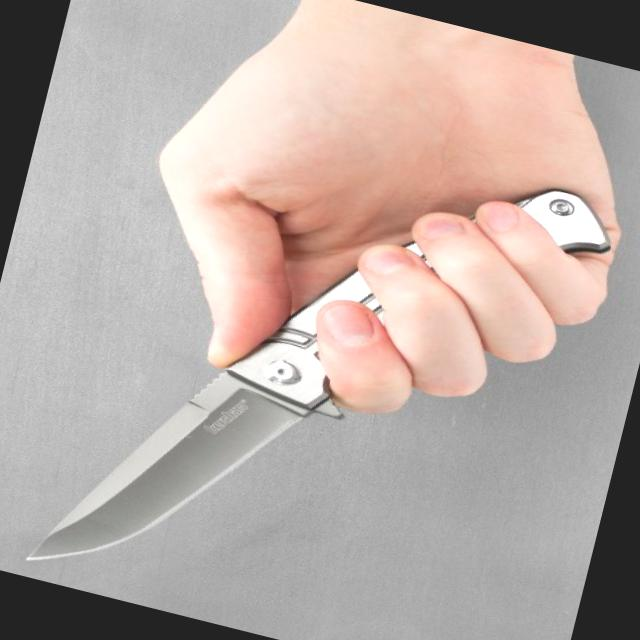knife: (13, 69, 634, 639)
